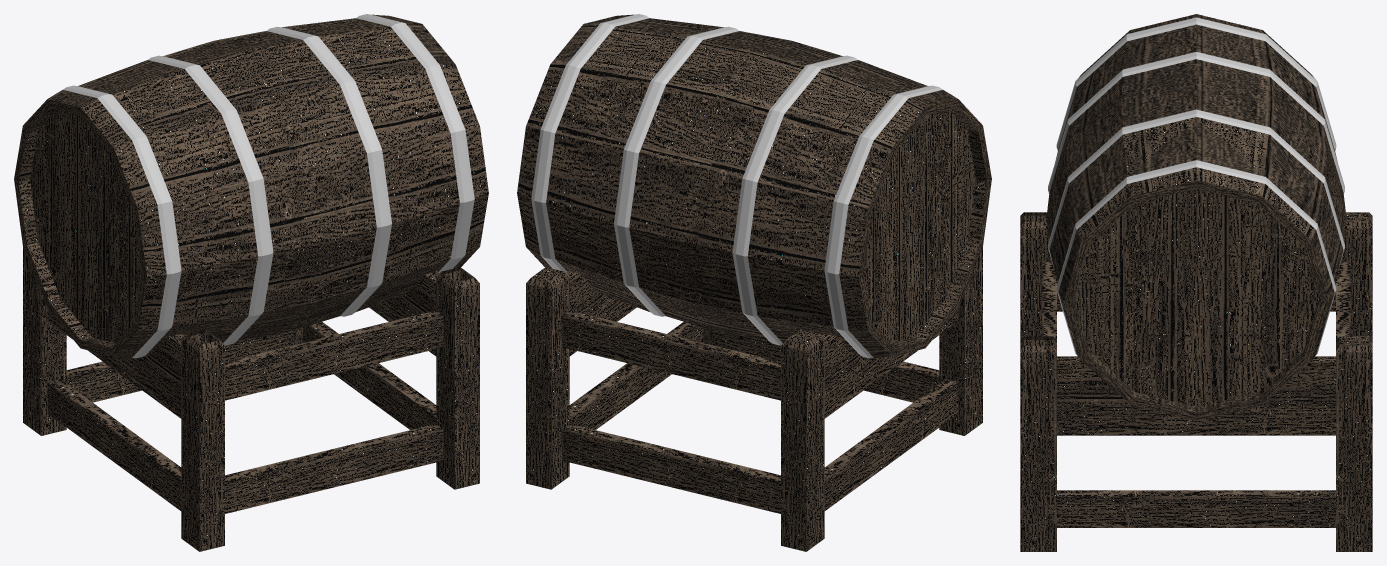
The model's file is barrel2.dae.
The picture shows the model from 3 angles, left to right: view 1: azimuth 30°, elevation 25°; view 2: azimuth 150°, elevation 25°; view 3: azimuth 270°, elevation 25°; orthographic projection.
Parts seen in each view (by area): view 1: barrel2_Layer1; view 2: barrel2_Layer1; view 3: barrel2_Layer1.
Part boxes in pixels (x1=…): barrel2_Layer1: x1=14, y1=14, x2=488, y2=551; barrel2_Layer1: x1=517, y1=14, x2=991, y2=551; barrel2_Layer1: x1=1020, y1=14, x2=1372, y2=551.
Size of the model in its own units: 1.07 by 1.21 by 0.96.
